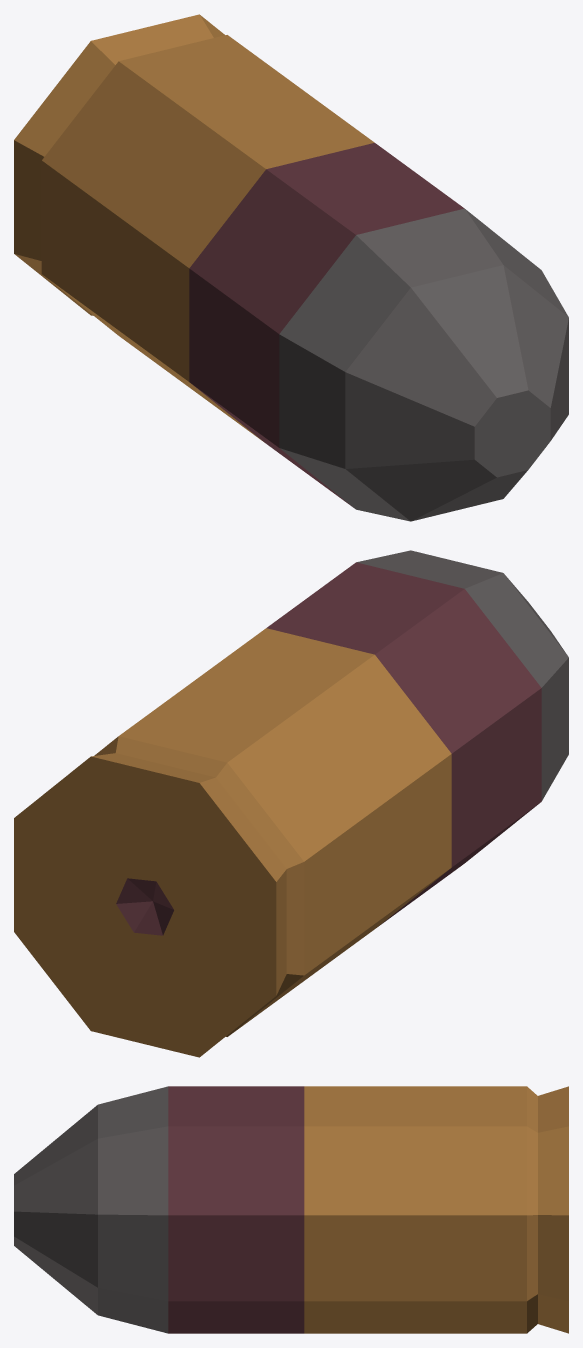
Rendered from SM_Ammo_Grenade_Flare.fbx.
3 renders of one model, top to bottom at view 1: azimuth 30°, elevation 25°; view 2: azimuth 150°, elevation 25°; view 3: azimuth 270°, elevation 25°, orthographic. The views are drawn at different scales.
Parts seen in each view (by area): view 1: SM_Ammo_Grenade_Flare; view 2: SM_Ammo_Grenade_Flare; view 3: SM_Ammo_Grenade_Flare.
Boxes of the visible parts, x1=… form: SM_Ammo_Grenade_Flare: x1=14, y1=14, x2=568, y2=521; SM_Ammo_Grenade_Flare: x1=14, y1=550, x2=568, y2=1057; SM_Ammo_Grenade_Flare: x1=14, y1=1086, x2=568, y2=1333.
Bounding box in the file's own units: 0.0388 × 0.0388 × 0.0942.
